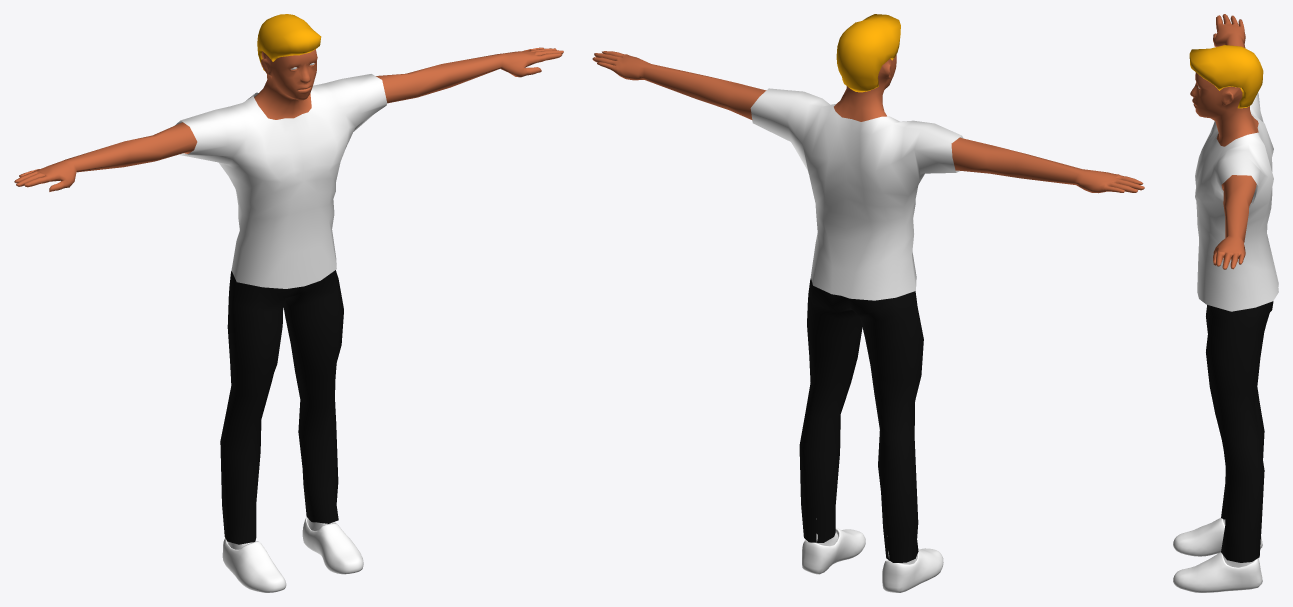
File: Man 15.obj
3 renders of one model, left to right at view 1: azimuth 30°, elevation 25°; view 2: azimuth 150°, elevation 25°; view 3: azimuth 270°, elevation 25°, orthographic. The views are drawn at different scales.
Parts seen in each view (by area): view 1: Human:Male1591.001, Human:Male1591.002, Human:Male1591, Human:Shoes05, Human:Male1591.003_Human:Male1591.005; view 2: Human:Male1591.001, Human:Male1591.002, Human:Male1591, Human:Shoes05, Human:Male1591.003_Human:Male1591.005; view 3: Human:Male1591.002, Human:Male1591.001, Human:Male1591, Human:Shoes05, Human:Male1591.003_Human:Male1591.005.
Boxes of the visible parts, <box> form: Human:Male1591.001: <box>174,74,387,288</box>; Human:Male1591.002: <box>220,270,343,544</box>; Human:Male1591: <box>14,47,563,191</box>; Human:Shoes05: <box>222,517,363,592</box>; Human:Male1591.003_Human:Male1591.005: <box>257,14,321,73</box>; Human:Male1591.001: <box>750,88,963,300</box>; Human:Male1591.002: <box>799,278,923,562</box>; Human:Male1591: <box>592,51,1144,193</box>; Human:Shoes05: <box>802,518,943,592</box>; Human:Male1591.003_Human:Male1591.005: <box>836,14,900,92</box>; Human:Male1591.002: <box>1206,301,1273,562</box>; Human:Male1591.001: <box>1195,93,1278,311</box>; Human:Male1591: <box>1190,14,1258,269</box>; Human:Shoes05: <box>1173,518,1262,592</box>; Human:Male1591.003_Human:Male1591.005: <box>1189,45,1263,108</box>.
Bounding box in the file's own units: 19.93 × 19.06 × 3.51.
